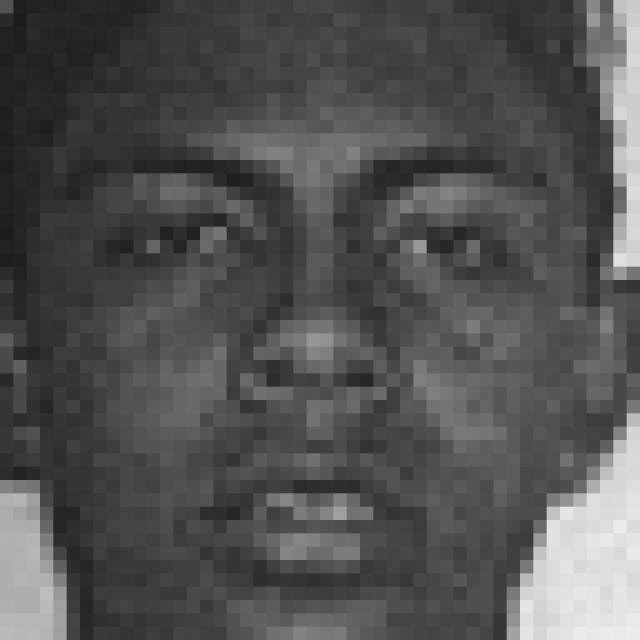neutral: (68, 127, 550, 607)
